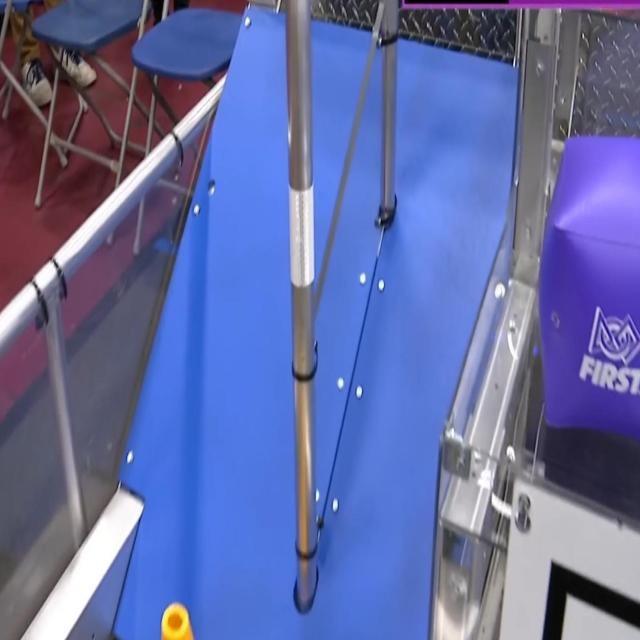frc_cone: (149, 595, 213, 640)
frc_cube: (536, 135, 640, 460)
